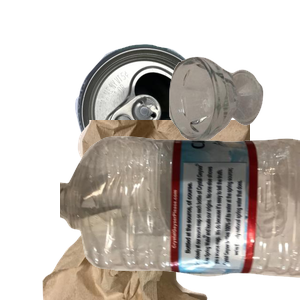glass: (166, 54, 300, 189)
metal: (73, 42, 277, 212)
plastic: (60, 134, 300, 300)
trash: (40, 120, 280, 300)
